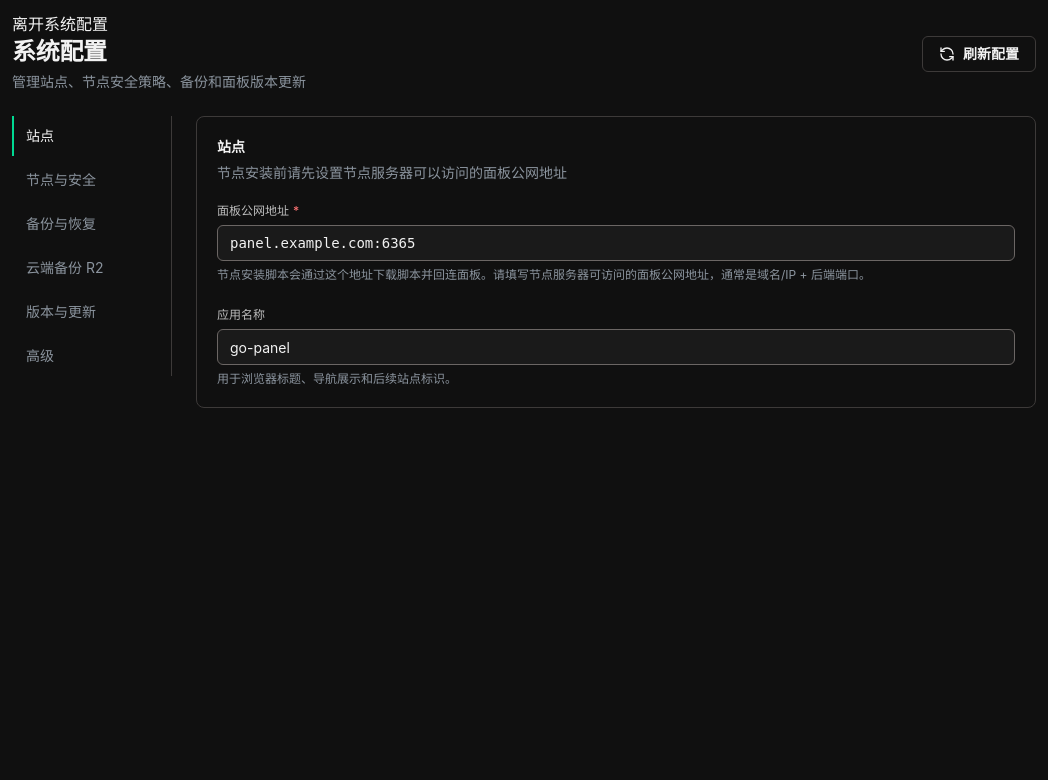
Test: 系统配置页的真实路由和草稿 › 跨标签累计两个修改、URL标签和放弃恢复
Expected: the heading "系统配置" is shown, [12,37,107,66]
Type "新名称" into the field labelled "应用名称". click: [616, 347]
box: [217,329,1015,365]
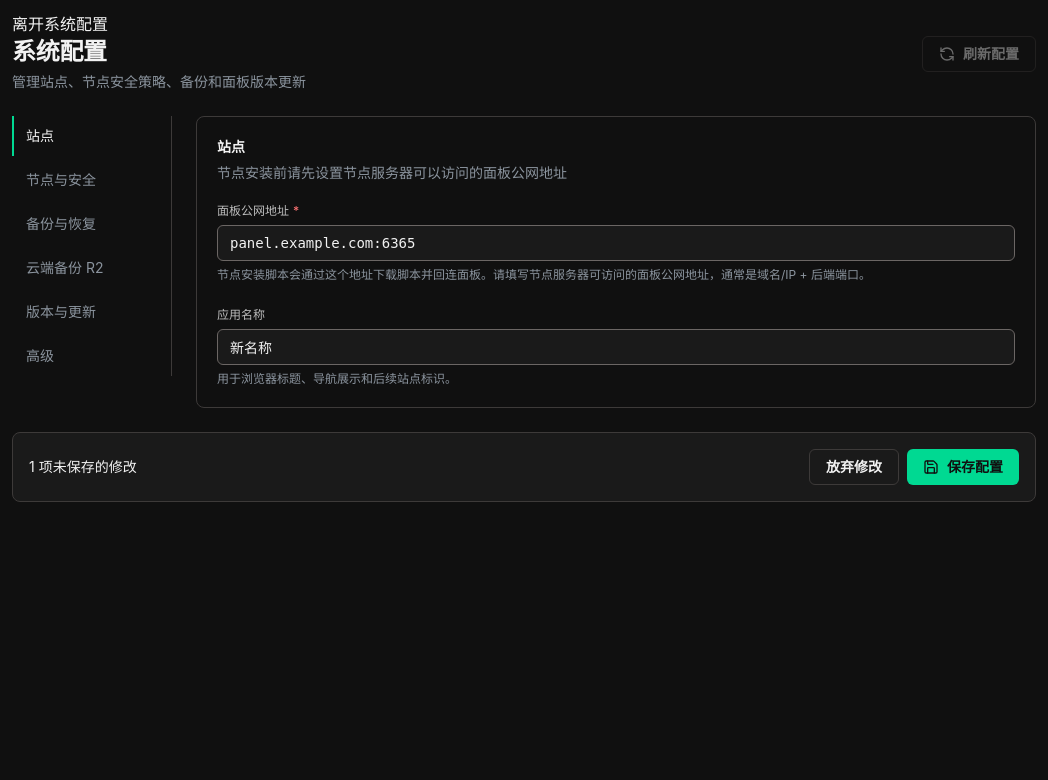
Press the mouse on the tab "节点与安全" at [84, 180], box [12,160,155,200]
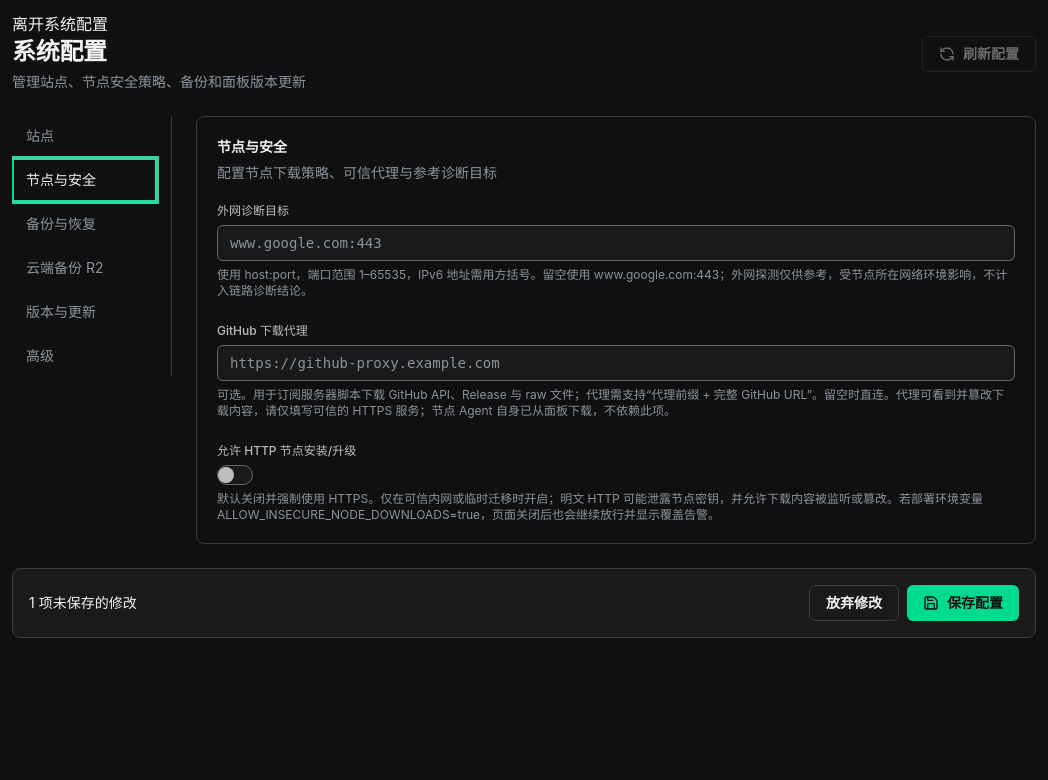
Result: the tab "节点与安全" is selected at [12,160,155,200]
Type "https://proxy.example.com" into the field labelled "GitHub 下载代理". click: [616, 363]
box: [217,345,1015,381]
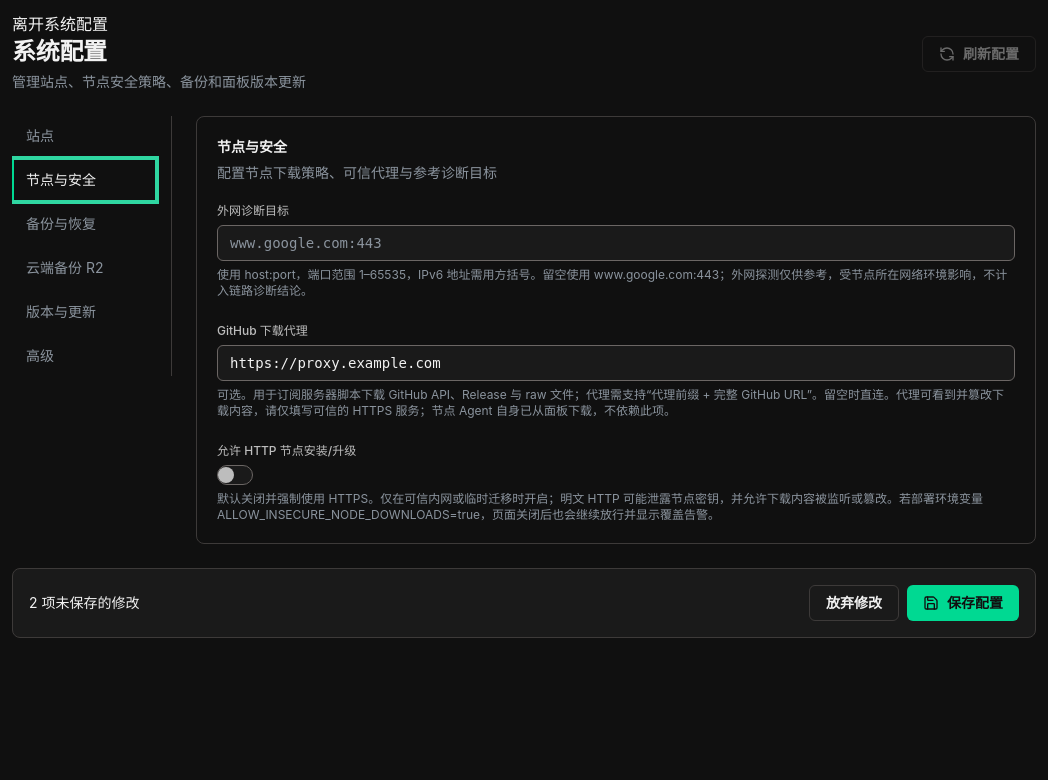
Result: the text "2 项未保存的修改" is shown at [29,593,140,613]
Click the button "放弃修改". click: [854, 603]
box: [809,585,899,621]
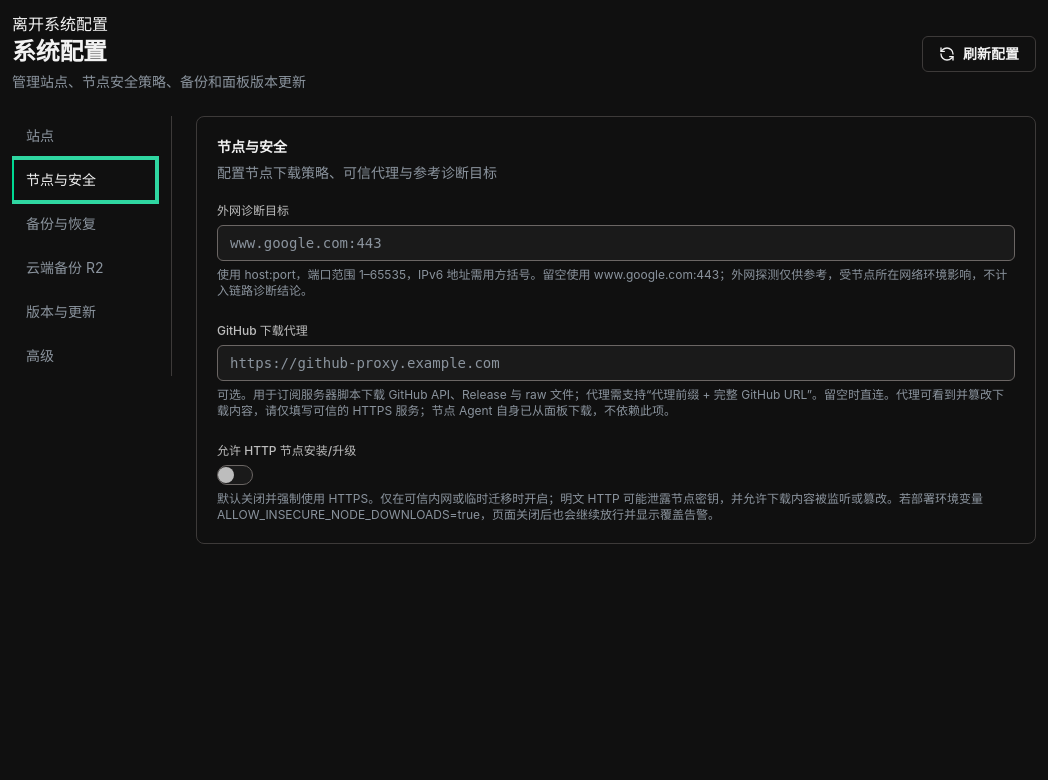
Result: the element "未保存的系统配置" is gone
Result: the field labelled "GitHub 下载代理" is empty at [217,345,1015,381]
Press the mouse on the tab "站点" at [84, 136], box [12,116,155,156]
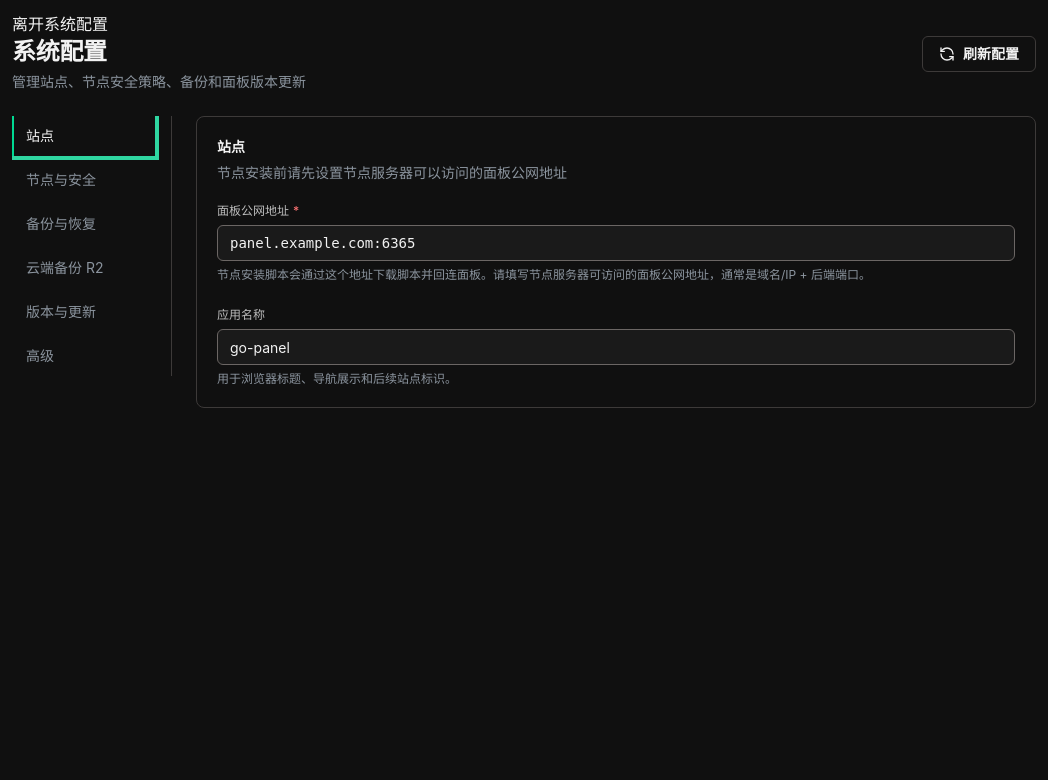
Result: the field labelled "应用名称" holds "go-panel" at [217,329,1015,365]
